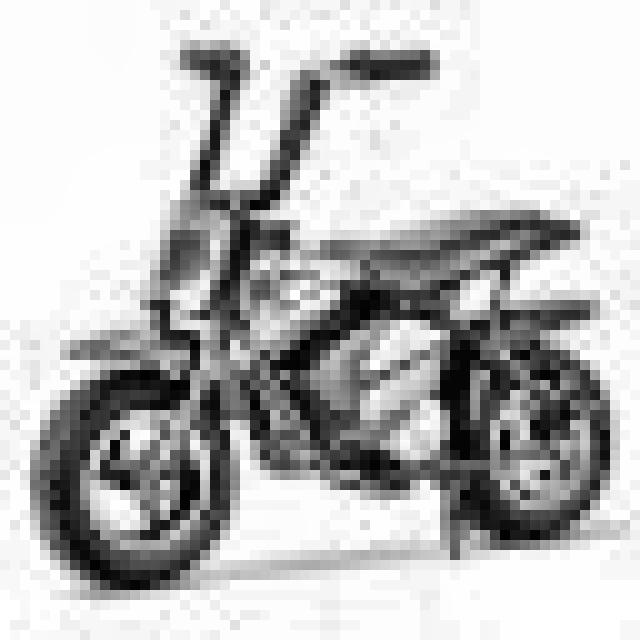mopeds: (33, 175, 616, 615)
